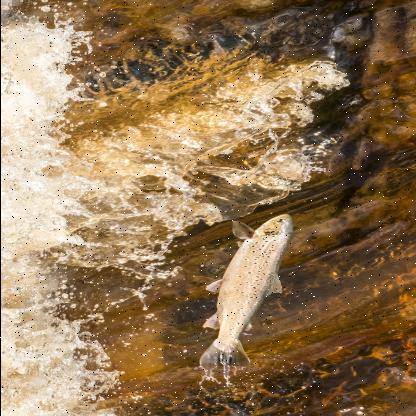fish: (192, 213, 294, 367)
